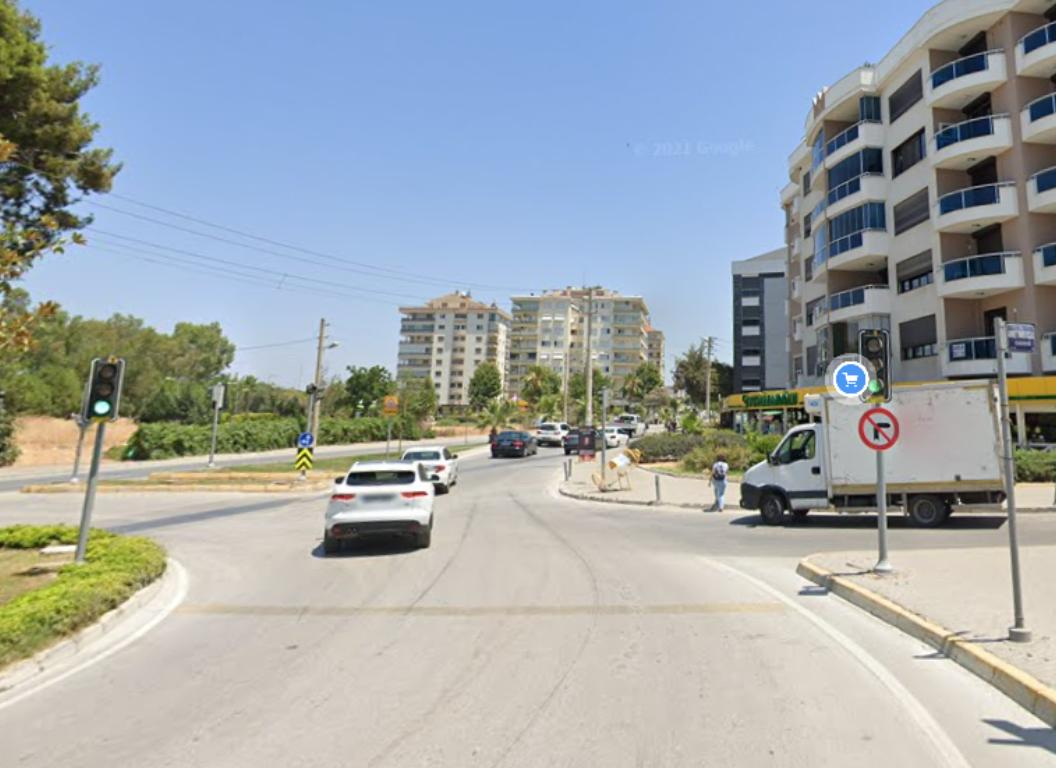greenlight: (860, 331, 890, 397), (93, 357, 119, 418)
rightturnsareforbidden: (861, 409, 897, 447)
